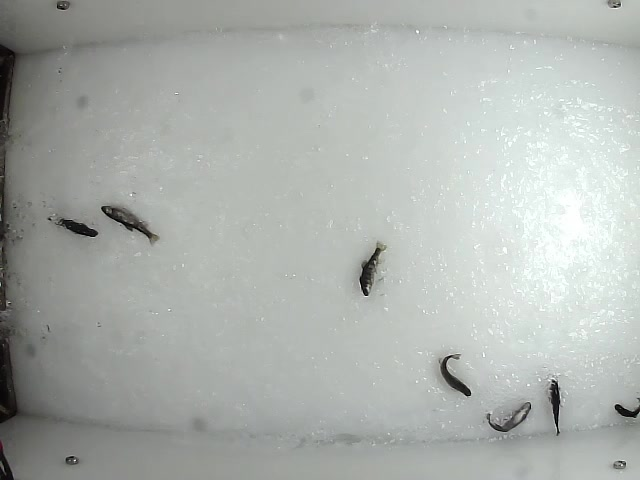fish: (99, 204, 162, 245), (43, 212, 105, 241), (487, 399, 537, 433), (358, 241, 388, 297), (439, 350, 471, 399), (547, 378, 565, 439)
